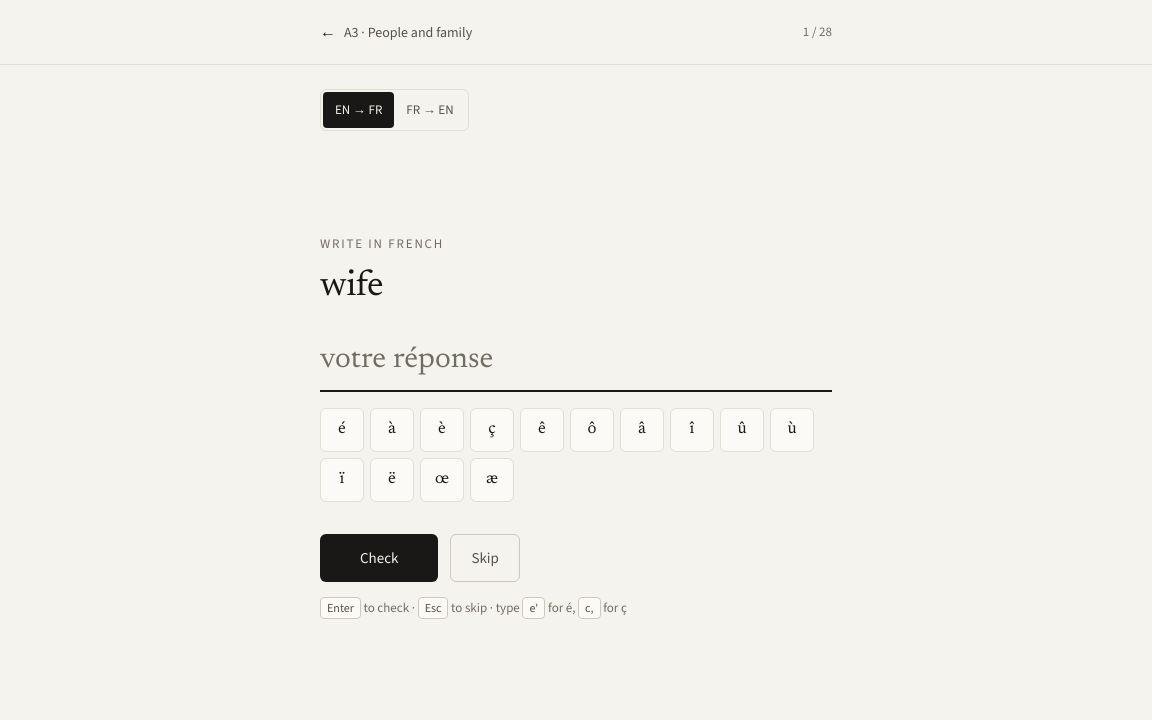
Test: live smoke › A3 renders a real prompt and grades the real answer
Type "la femme" into the field named "your answer" at (576, 367), box x1=320 y1=342 x2=832 y2=392
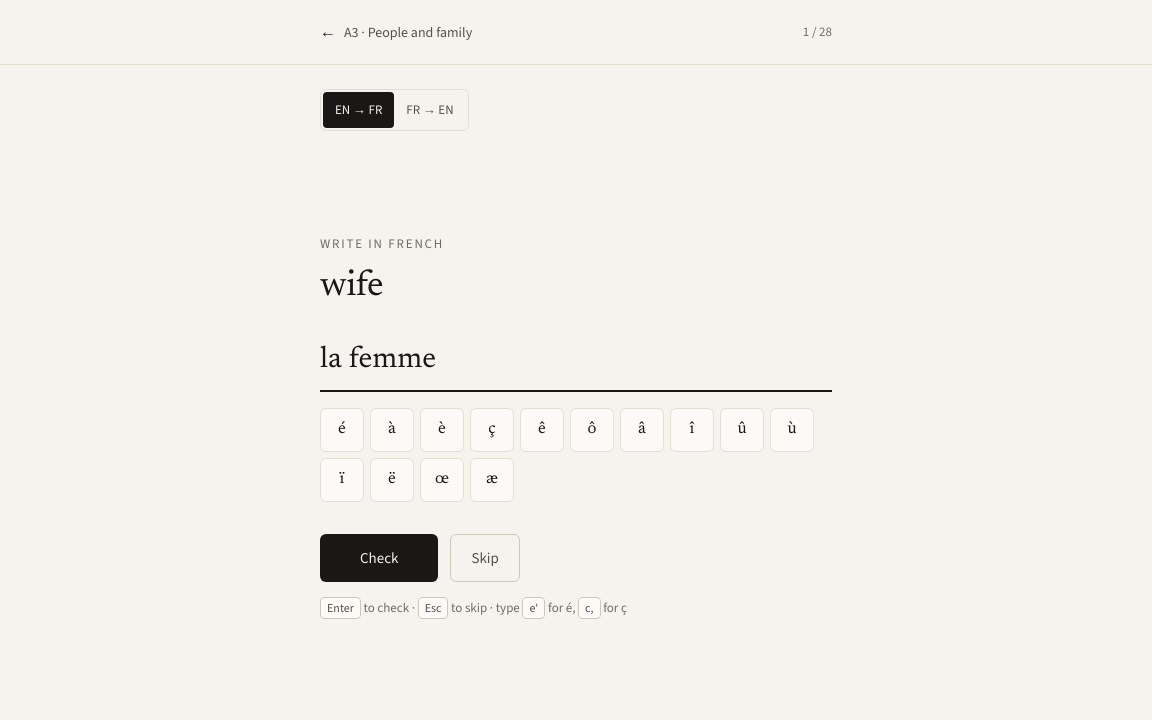
Click the button "Check" at (379, 558), box x1=320 y1=534 x2=438 y2=582
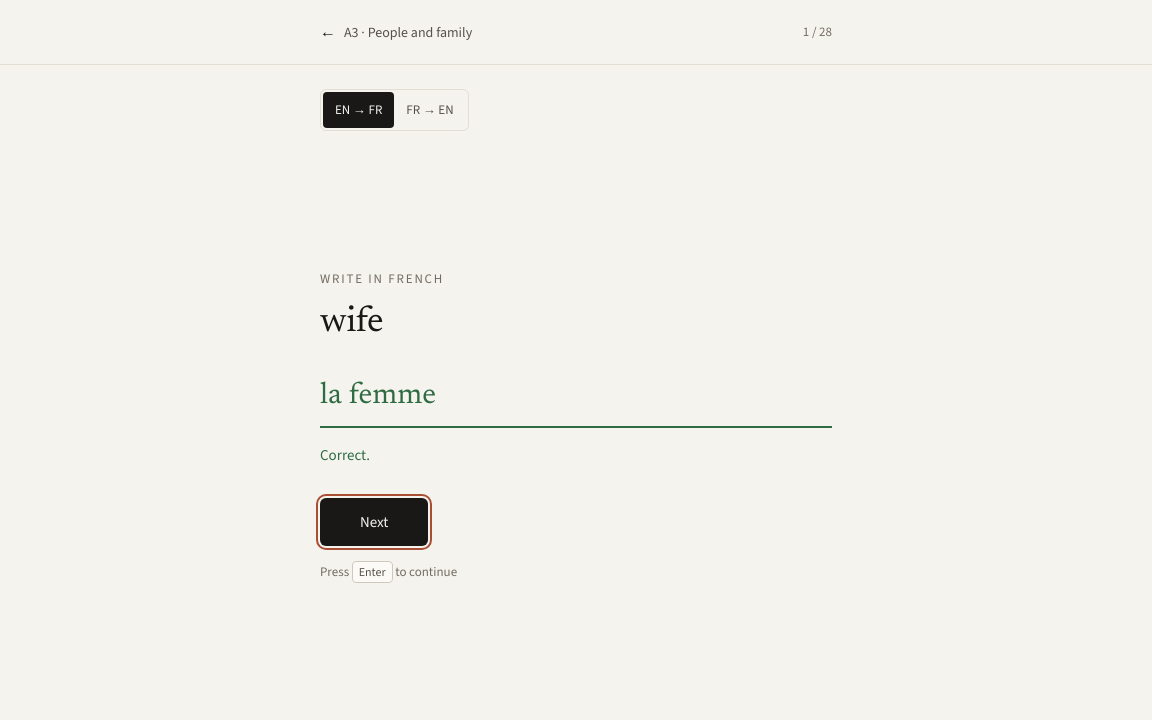
Expected: the text "Correct." is shown, x1=320 y1=445 x2=370 y2=465
